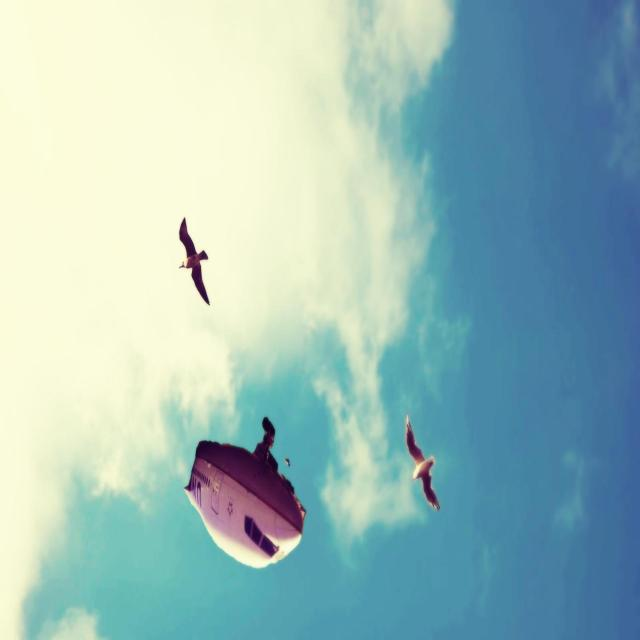airplane: (183, 415, 306, 569)
